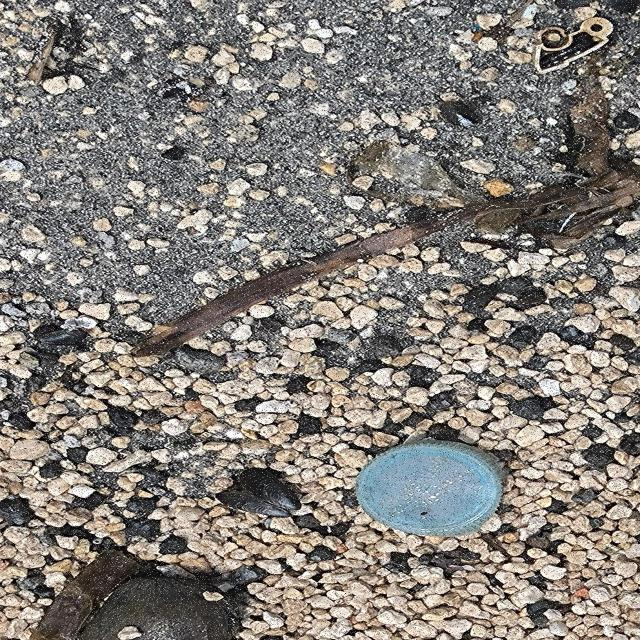plastic_waste: (354, 440, 509, 538)
